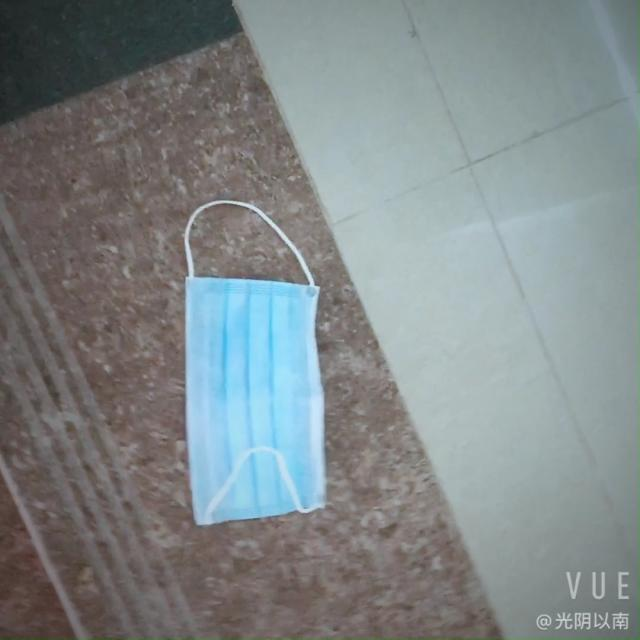non-organic waste: (169, 266, 349, 548)
